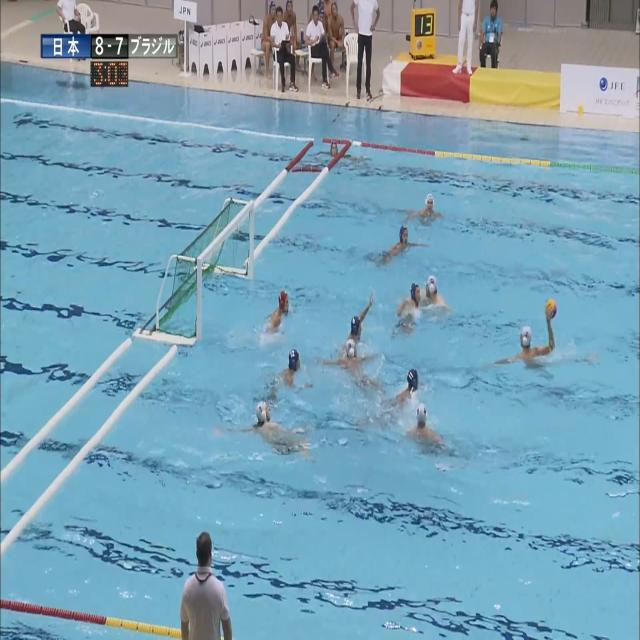ball: (546, 299, 556, 318)
